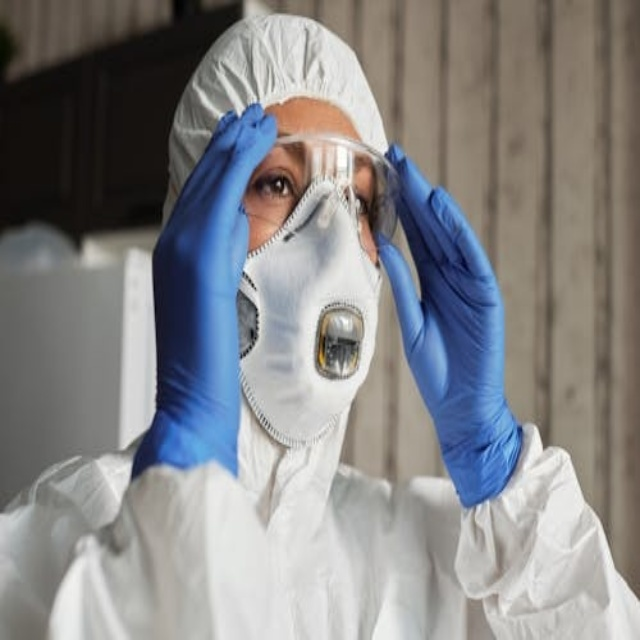Gafas: (258, 132, 403, 248)
Guantes: (374, 144, 523, 509), (134, 106, 275, 486)
Mascara: (233, 147, 391, 445)
